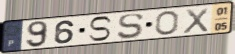6: (53, 19, 76, 45)
9: (24, 20, 50, 49)
O: (154, 10, 180, 36)
S: (117, 12, 146, 41), (87, 15, 114, 43)
X: (182, 6, 210, 35)
